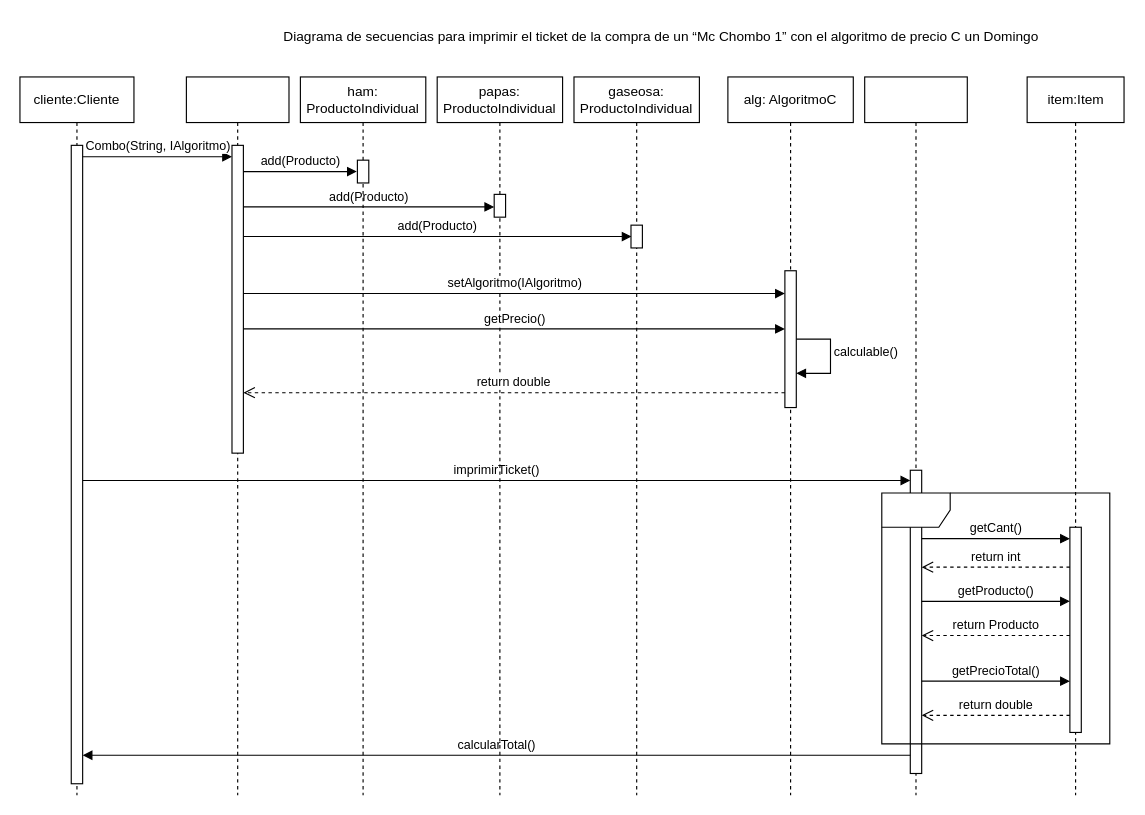
The diagram is 1145 pixels wide and 815 high, and some of its shapes have lost their labels. Each missing label, with the centre of its shape:
loop for each: (x=995, y=618)
mc Chombo 1: Combo: (x=237, y=435)
ticket:Ticket: (x=915, y=435)
